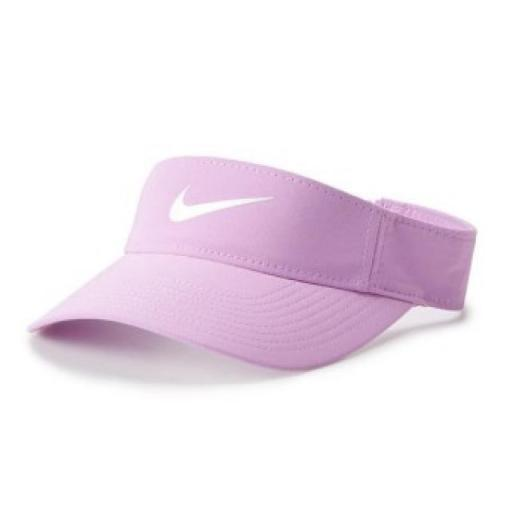Nike: (160, 178, 282, 228)
